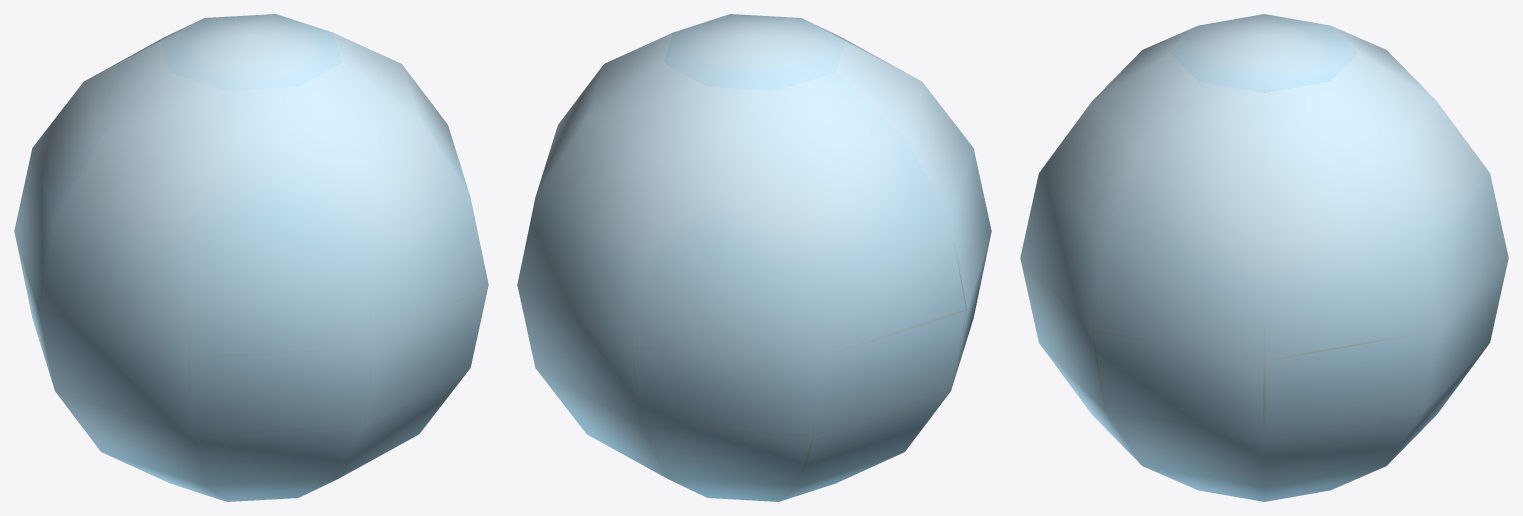
The model's file is sm_ball_snow.fbx.
3 renders of one model, left to right at view 1: azimuth 30°, elevation 25°; view 2: azimuth 150°, elevation 25°; view 3: azimuth 270°, elevation 25°, orthographic.
Parts seen in each view (by area): view 1: pSphere1; view 2: pSphere1; view 3: pSphere1.
Boxes of the visible parts, left/top/right/bottom form: pSphere1: left=14, top=14, right=488, bottom=501; pSphere1: left=517, top=14, right=991, bottom=501; pSphere1: left=1020, top=14, right=1508, bottom=501.
Bounding box in the file's own units: 2 × 2 × 2.
1 material, 1 textured.
